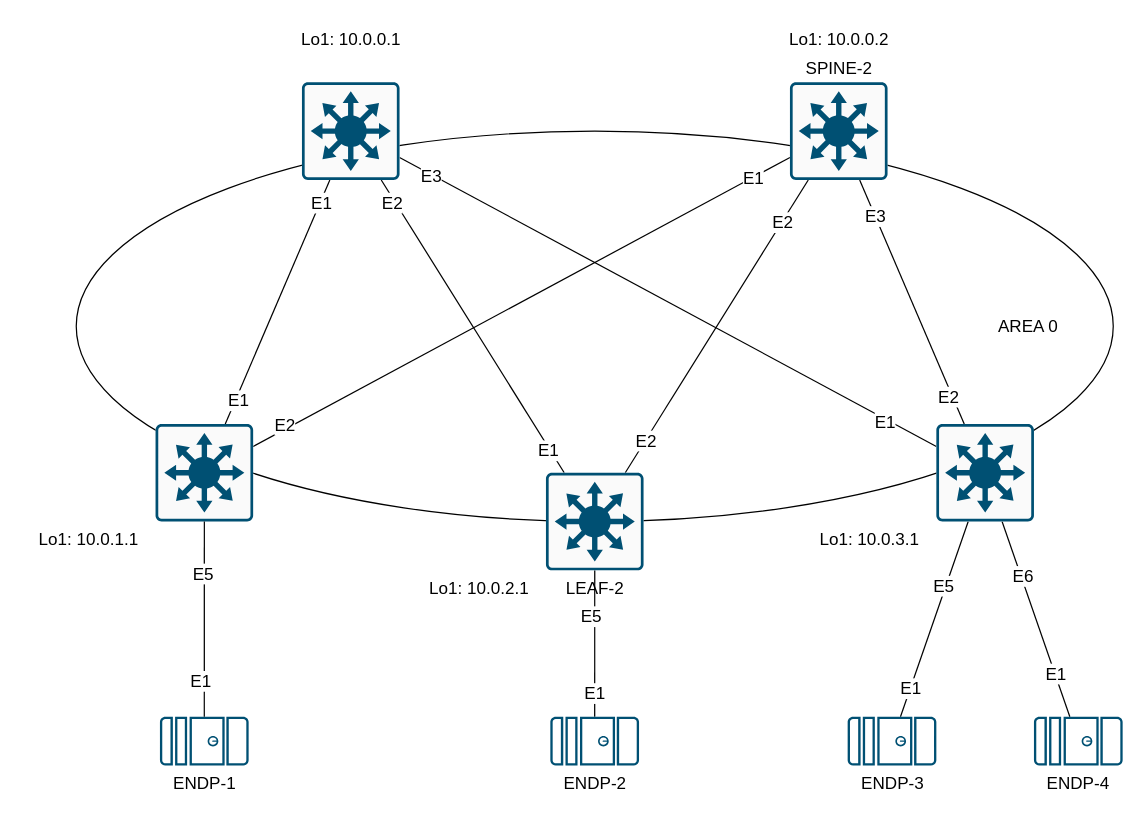
Image size: 1143x815. Some labels were removed from this diagram. Each missing label, with the centre of its shape:
"LEAF-1" belongs at (x=203, y=472).
"LEAF-3" belongs at (x=984, y=472).
"SPINE-1" belongs at (x=350, y=130).
